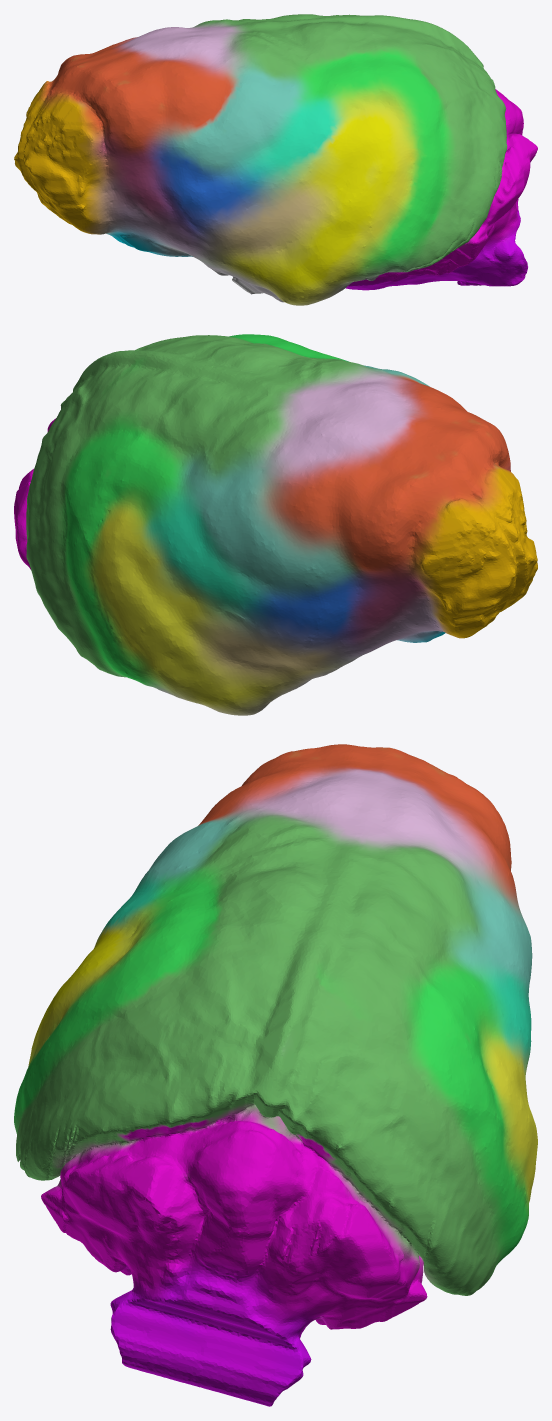
The model's file is martes-endocast.glb.
3 renders of one model, top to bottom at view 1: azimuth 30°, elevation 25°; view 2: azimuth 150°, elevation 25°; view 3: azimuth 270°, elevation 25°, orthographic. The views are drawn at different scales.
Visible parts, largest first — view 1: geometry_0; view 2: geometry_0; view 3: geometry_0.
Boxes of the visible parts, x1,y1,x2,y2 form: geometry_0: (14,14,537,305); geometry_0: (14,334,537,715); geometry_0: (14,744,537,1406).
Bounding box in the file's own units: 51.43 × 30.11 × 34.16.
